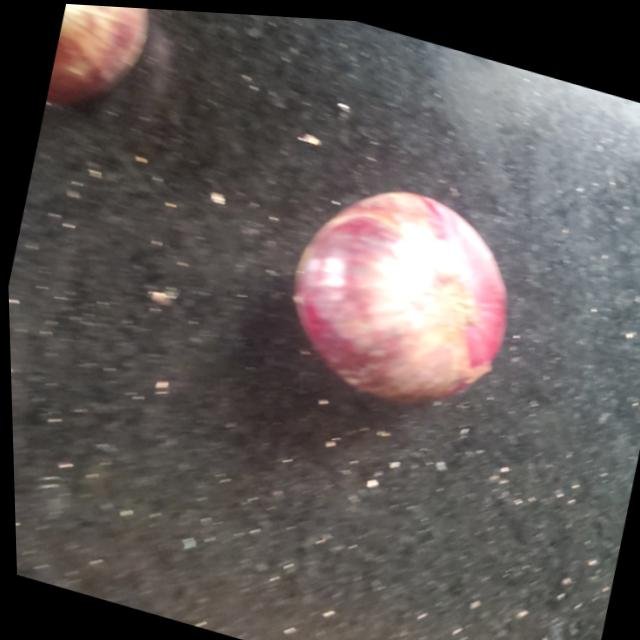onion: (273, 163, 536, 427), (43, 2, 164, 122)
